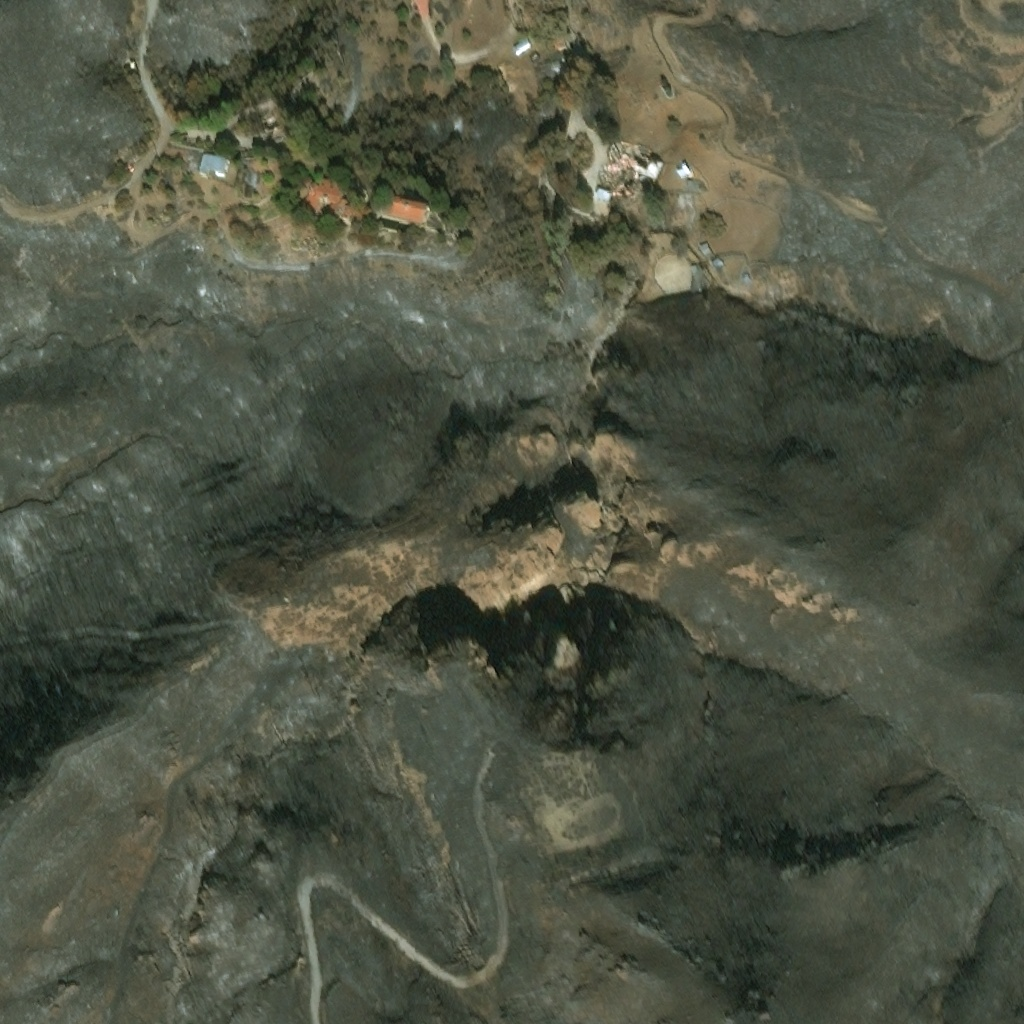0 no-damage: (299, 174, 366, 224), (378, 195, 432, 227), (200, 153, 230, 178), (689, 261, 708, 286), (410, 0, 428, 15), (679, 170, 696, 184), (698, 240, 712, 256), (688, 185, 706, 196), (513, 37, 528, 50), (711, 254, 723, 267)
3 destroyed: (597, 142, 666, 201), (593, 189, 611, 216)
4 un-classified: (252, 99, 287, 124)
